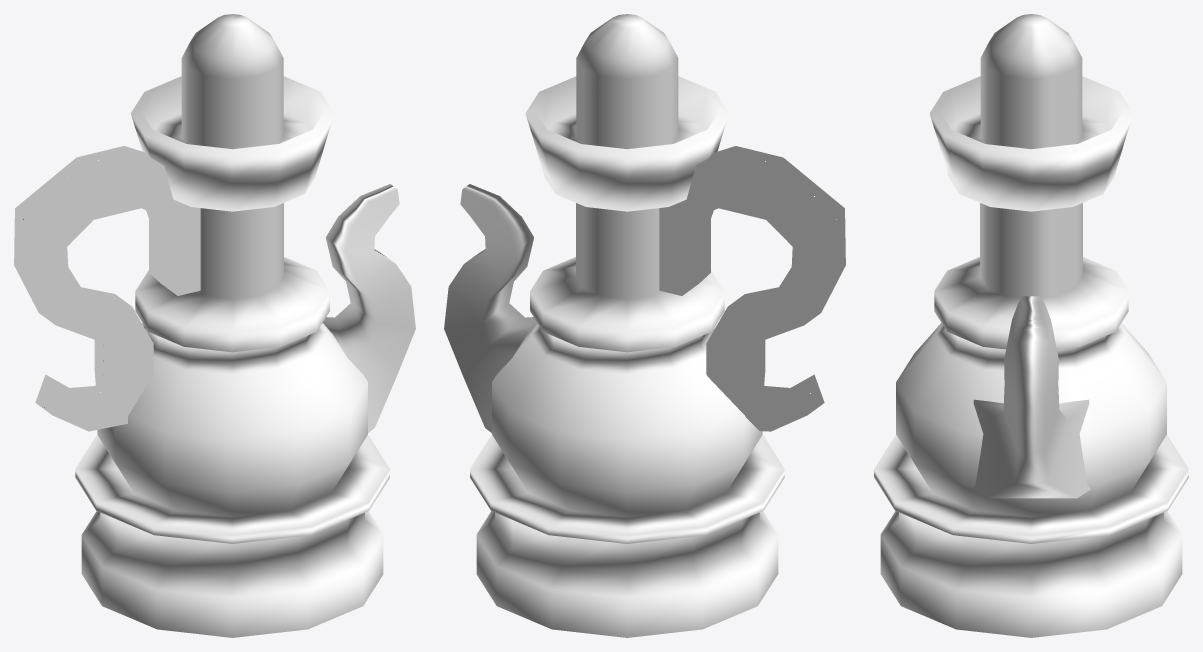
File: TeaKettle_Asset.fbx
The picture shows the model from 3 angles, left to right: view 1: azimuth 30°, elevation 25°; view 2: azimuth 150°, elevation 25°; view 3: azimuth 270°, elevation 25°; orthographic projection.
Parts seen in each view (by area): view 1: TeaKettle; view 2: TeaKettle; view 3: TeaKettle.
Part boxes in pixels (left/top/right/bottom): TeaKettle: left=14, top=14, right=415, bottom=637; TeaKettle: left=444, top=14, right=845, bottom=637; TeaKettle: left=874, top=14, right=1188, bottom=637.
Bounding box in the file's own units: 31.52 × 43.09 × 22.23.
